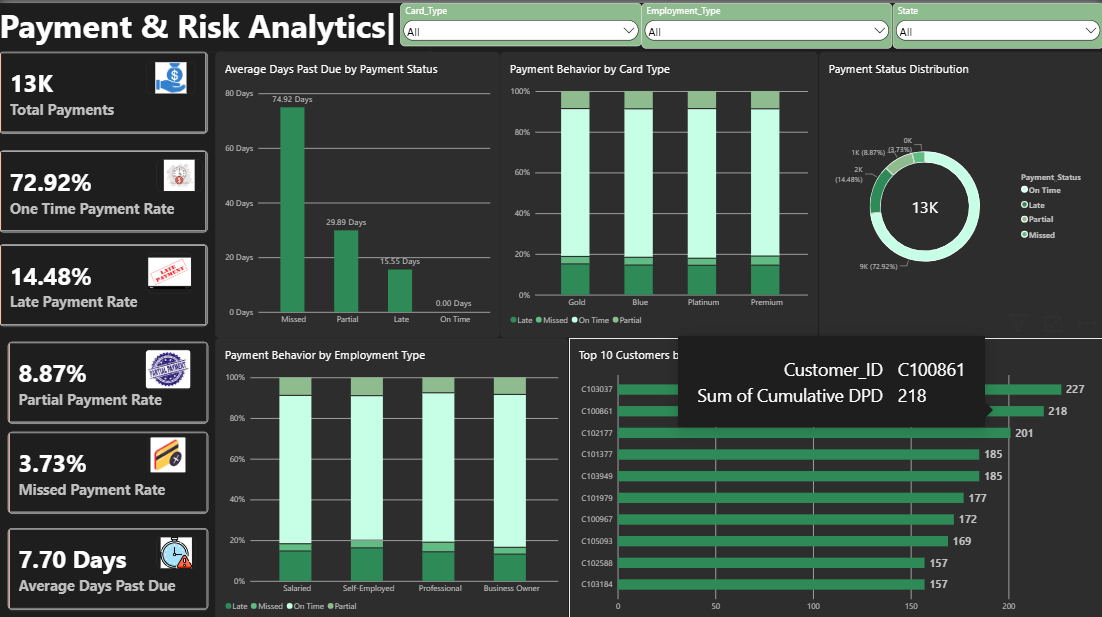

Layout of this report page (visuals, bound fields, positions):
{"tool":"powerbi","page":{"name":"Payment & Risk Analytics","canvas":[1920,1080],"ordinal":2},"visuals":[{"type":"cardVisual","fields":{"Data":["Payments.Total Payments"]},"box":[0,85.6,362.9,142.7],"z":0},{"type":"cardVisual","fields":{"Data":["Payments.One Time Payment Rate %"]},"box":[0,256.9,362.9,142.7],"z":1000},{"type":"cardVisual","fields":{"Data":["Payments.Late Payment Rate %"]},"box":[0,420,362.9,142.7],"z":2000},{"type":"cardVisual","fields":{"Data":["Payments.Partial Payment Rate %"]},"box":[14.3,589.2,348.6,142.7],"z":3000},{"type":"cardVisual","fields":{"Data":["Payments.Missed Payment Rate %"]},"box":[14.3,746.1,348.6,142.7],"z":4000},{"type":"cardVisual","fields":{"Data":["Payments.Average Days Past Due"]},"box":[14.3,913.3,348.6,142.7],"z":5000},{"type":"textbox","box":[0,0,752.3,85.6],"z":6000},{"type":"donutChart","title":"Payment Status Distribution","fields":{"Category":["Payments.Payment_Status"],"Y":["Payments.Total Payments"]},"box":[1425,85.6,495.4,497.4],"z":7000},{"type":"hundredPercentStackedColumnChart","title":"Payment Behavior by Card Type","fields":{"Category":["Cards.Card_Type"],"Series":["Payments.Payment_Status"],"Y":["Payments.Total Payments"]},"box":[872.5,85.6,552.5,497.4],"z":8000},{"type":"hundredPercentStackedColumnChart","title":"Payment Behavior by Employment Type","fields":{"Category":["Customers.Employment_Type"],"Series":["Payments.Payment_Status"],"Y":["Payments.Total Payments"]},"box":[377.2,583.1,613.6,497.4],"z":9000},{"type":"clusteredColumnChart","title":"Average Days Past Due by Payment Status","fields":{"Category":["Payments.Payment_Status"],"Y":["Payments.Average Days Past Due"]},"box":[377.2,85.6,495.4,497.4],"z":10000},{"type":"barChart","title":"Top 10 Customers by Cumulative DPD","fields":{"Category":["Customers.Customer_ID"],"Y":["Sum(Customers.Cumulative DPD)"]},"box":[990.8,583.1,929.6,497.4],"z":11000},{"type":"slicer","fields":{"Values":["Cards.Card_Type"]},"box":[697.2,0,420,75.4],"z":12000},{"type":"slicer","fields":{"Values":["Customers.Employment_Type"]},"box":[1117.2,0,436.3,79.5],"z":13000},{"type":"slicer","fields":{"Values":["Customers.State"]},"box":[1553.5,0,367,79.5],"z":14000},{"type":"image","box":[257,101.3,85.1,56.1],"z":15000},{"type":"image","box":[273.3,271.4,79.6,56.1],"z":16000},{"type":"image","box":[258.8,434.3,76,70.6],"z":17000},{"type":"image","box":[255.2,602.6,79.6,70.6],"z":18000},{"type":"image","box":[258.8,754.6,70.6,63.3],"z":19000},{"type":"image","box":[273.3,928.4,68.8,56.1],"z":20000}]}

Visuals, with their boxes in screenshot pixels (x1, y1, x2, y2), scaled from the page's 1920x1080 canvas onto the 1102x617 screenshot:
cardVisual - Payments.Total Payments: x1=0, y1=49, x2=208, y2=130
cardVisual - Payments.One Time Payment Rate %: x1=0, y1=147, x2=208, y2=228
cardVisual - Payments.Late Payment Rate %: x1=0, y1=240, x2=208, y2=321
cardVisual - Payments.Partial Payment Rate %: x1=8, y1=337, x2=208, y2=418
cardVisual - Payments.Missed Payment Rate %: x1=8, y1=426, x2=208, y2=508
cardVisual - Payments.Average Days Past Due: x1=8, y1=522, x2=208, y2=603
textbox: x1=0, y1=0, x2=432, y2=49
"Payment Status Distribution" donutChart: x1=818, y1=49, x2=1101, y2=333
"Payment Behavior by Card Type" hundredPercentStackedColumnChart: x1=501, y1=49, x2=818, y2=333
"Payment Behavior by Employment Type" hundredPercentStackedColumnChart: x1=216, y1=333, x2=569, y2=616
"Average Days Past Due by Payment Status" clusteredColumnChart: x1=216, y1=49, x2=501, y2=333
"Top 10 Customers by Cumulative DPD" barChart: x1=569, y1=333, x2=1101, y2=616
slicer - Cards.Card_Type: x1=400, y1=0, x2=641, y2=43
slicer - Customers.Employment_Type: x1=641, y1=0, x2=892, y2=45
slicer - Customers.State: x1=892, y1=0, x2=1101, y2=45
image: x1=148, y1=58, x2=196, y2=90
image: x1=157, y1=155, x2=203, y2=187
image: x1=149, y1=248, x2=192, y2=288
image: x1=146, y1=344, x2=192, y2=385
image: x1=149, y1=431, x2=189, y2=467
image: x1=157, y1=530, x2=196, y2=562
